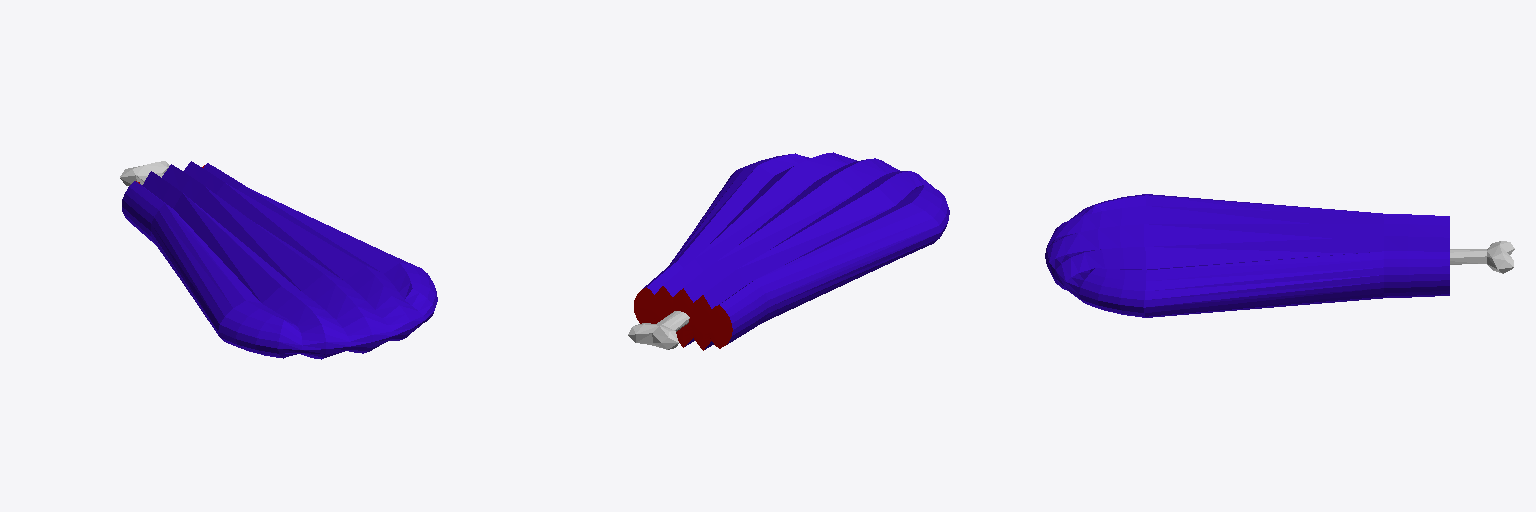
Rendered from fishfin.obj.
The picture shows the model from 3 angles: view 1: azimuth 30°, elevation 25°; view 2: azimuth 150°, elevation 25°; view 3: azimuth 270°, elevation 25°; orthographic projection.
Parts seen in each view (by area): view 1: Cube.016; view 2: Cube.016; view 3: Cube.016.
Part boxes in pixels (bbox=[...]): Cube.016: bbox=[120, 161, 437, 359]; Cube.016: bbox=[628, 152, 949, 350]; Cube.016: bbox=[1045, 194, 1514, 317].
Bounding box in the file's own units: 4.53 × 1.32 × 8.71.